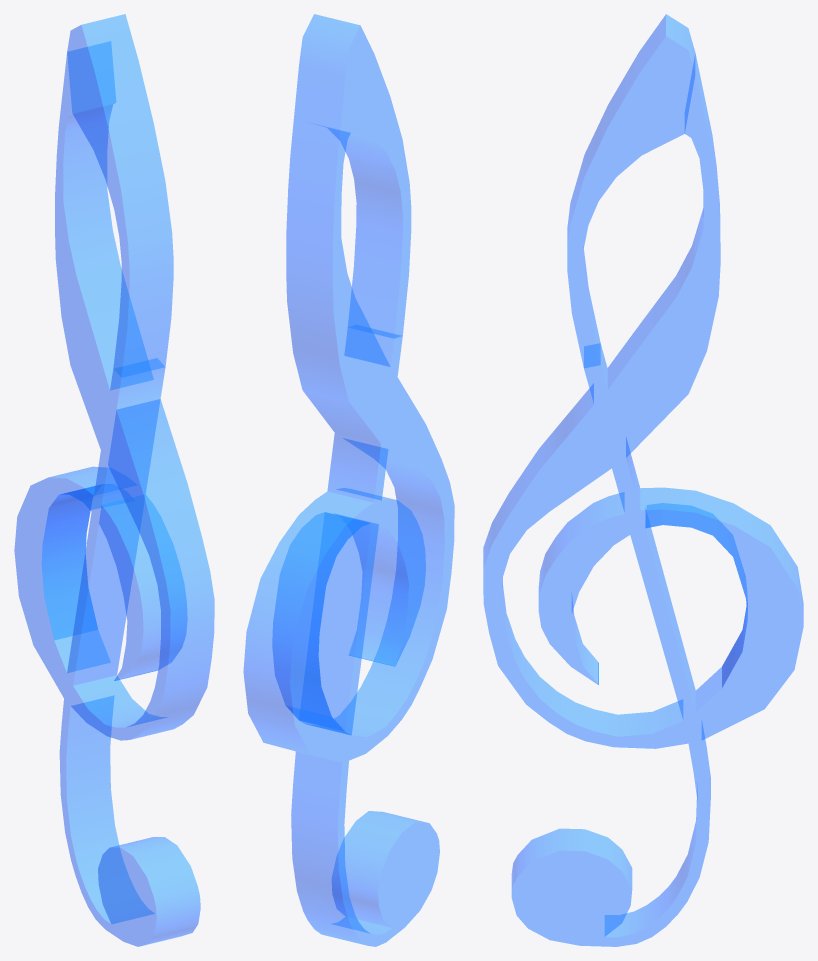
File: treble_clef.glb
3 views of the same model, side by side, from view 1: azimuth 30°, elevation 25°; view 2: azimuth 150°, elevation 25°; view 3: azimuth 270°, elevation 25° (orthographic). The views are drawn at different scales.
Visible parts, largest first — view 1: Cube; view 2: Cube; view 3: Cube.
Boxes of the visible parts, box(x1,y1,x2,y2) form: Cube: box(14, 14, 214, 946); Cube: box(243, 14, 454, 946); Cube: box(483, 14, 803, 946).
Bounding box in the file's own units: 0.1677 × 3.23 × 1.03.
1 material, 1 textured.
